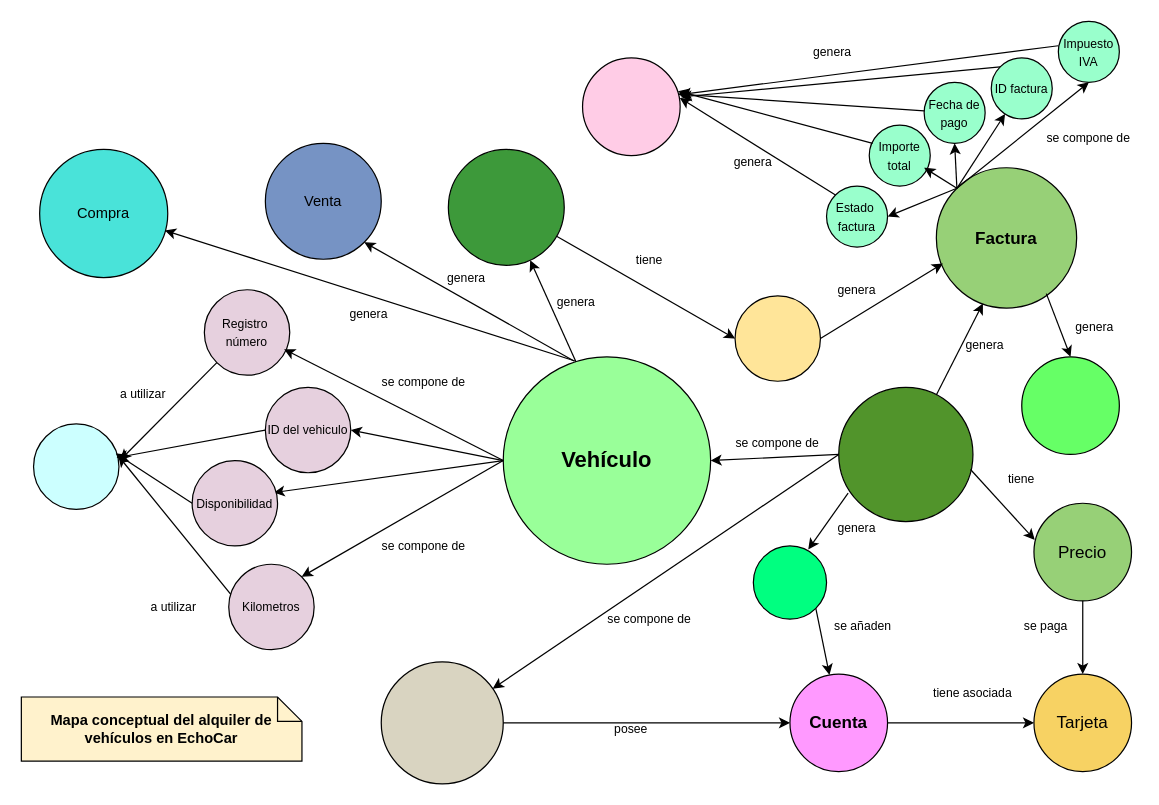
Image size: 1159x805. Some labels were removed from this diagram. Each missing label, with the centre of its shape:
"Alquiler" belongs at (x=905, y=454).
"Emisión fisica o electrónica" belongs at (x=630, y=106).
"Encuesta" belongs at (x=1070, y=405).
"Fechas" belongs at (x=75, y=466).
"Presupuesto" belongs at (x=777, y=338).
"Puntos" belongs at (x=789, y=582).
"Reparacion" belongs at (x=505, y=206).
"Usuario" belongs at (x=441, y=722).
